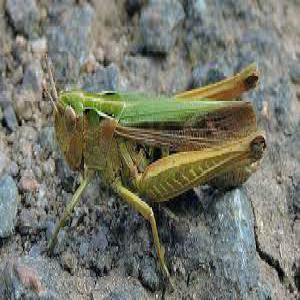locust: (46, 67, 272, 203)
